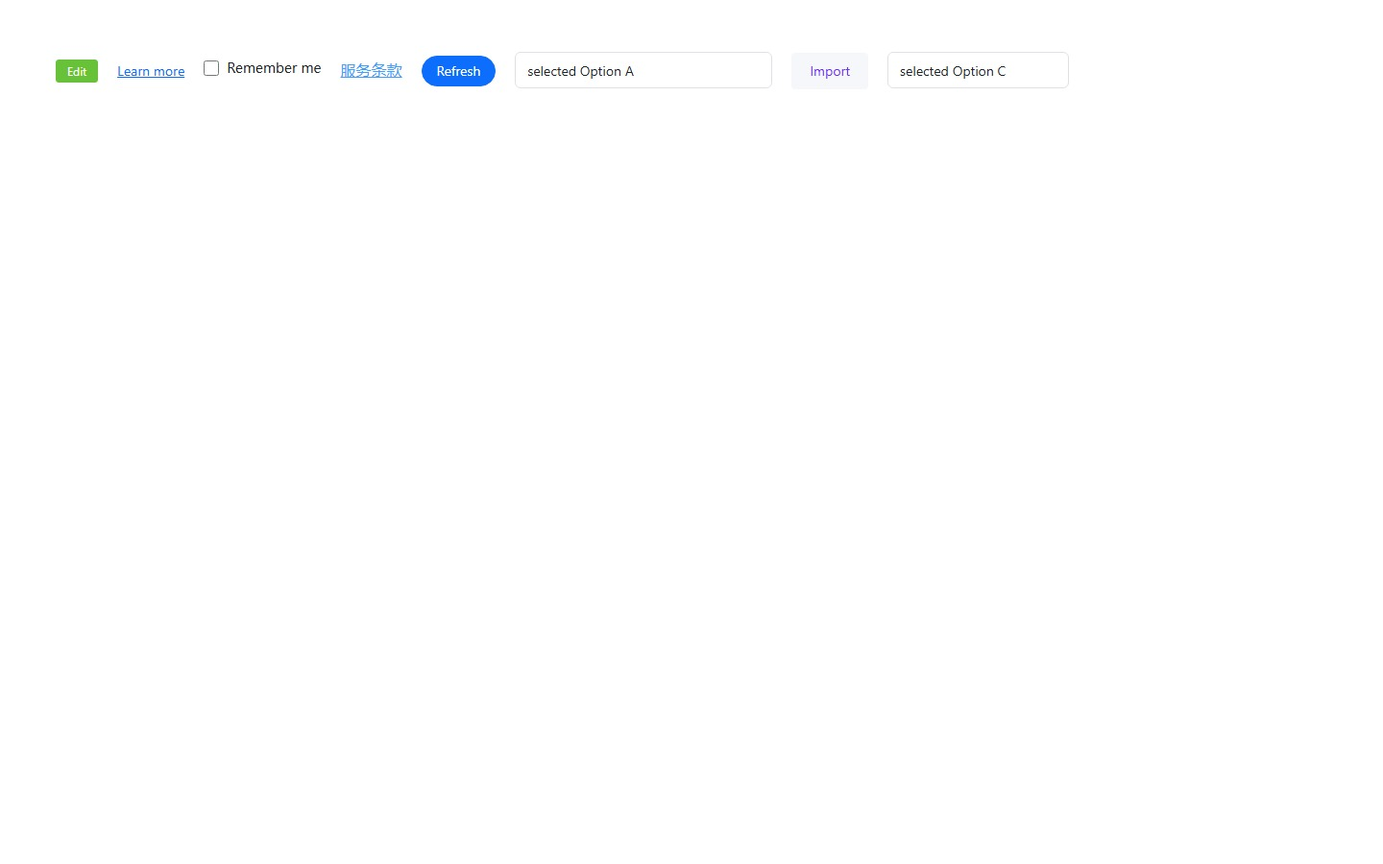button: (792, 52, 868, 89), (421, 55, 496, 86), (56, 59, 98, 82)
checkbox: (204, 60, 219, 75)
icon: (227, 59, 321, 77)
link: (340, 59, 402, 79), (117, 61, 185, 79)
radio: (204, 59, 321, 77)
select: (515, 52, 772, 88), (887, 52, 1069, 88)
